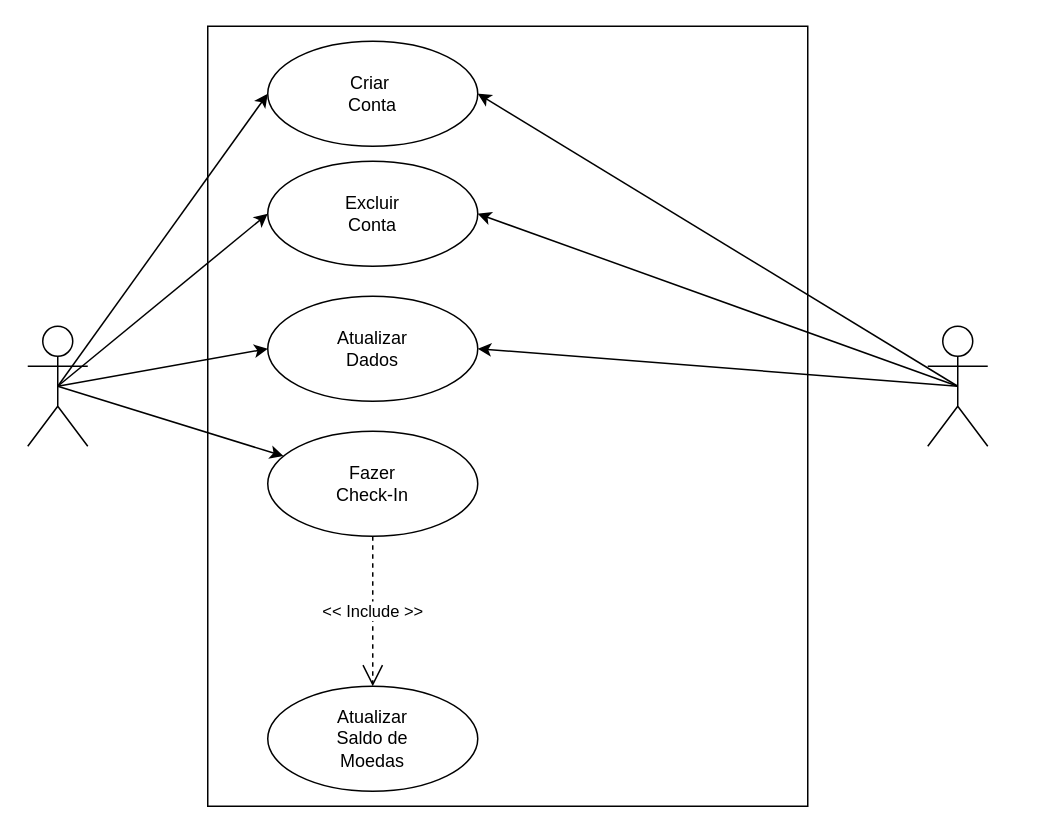
This 1040x833 diagram has some shape labels left out. Each missing label, with the centre of its shape:
Administrador: point 957,385
Jogador: point 57,385
